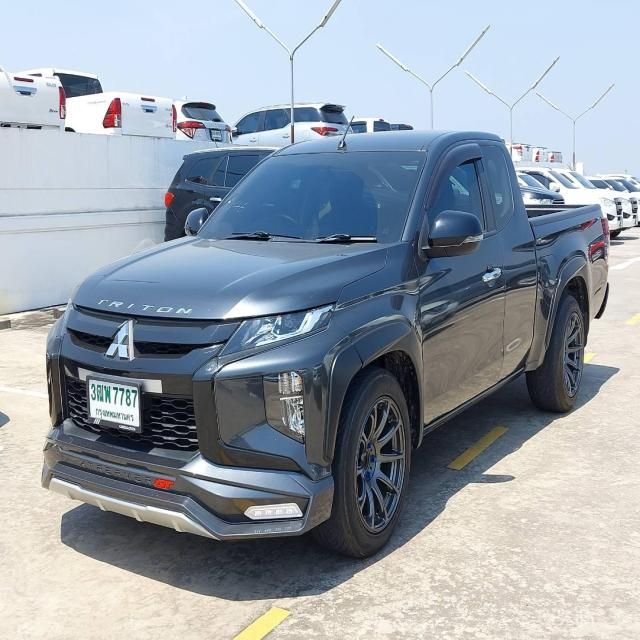license_plate: (85, 376, 141, 436), (209, 126, 223, 144)
